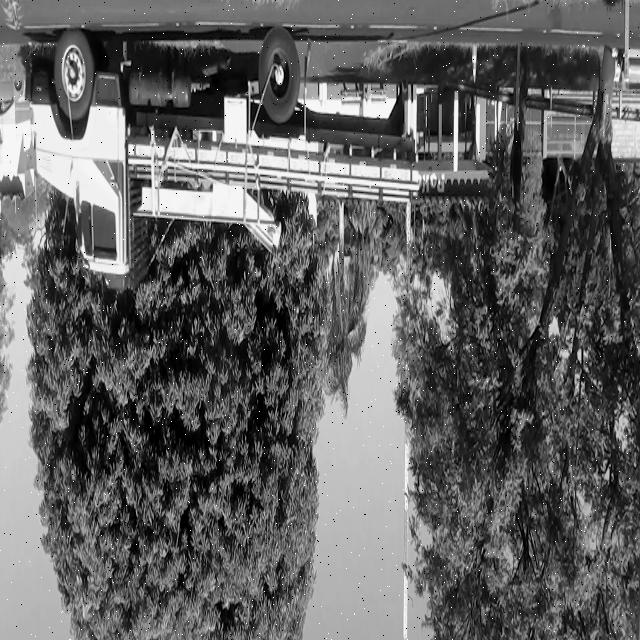-axle: (260, 34, 300, 123), (55, 28, 93, 117)
